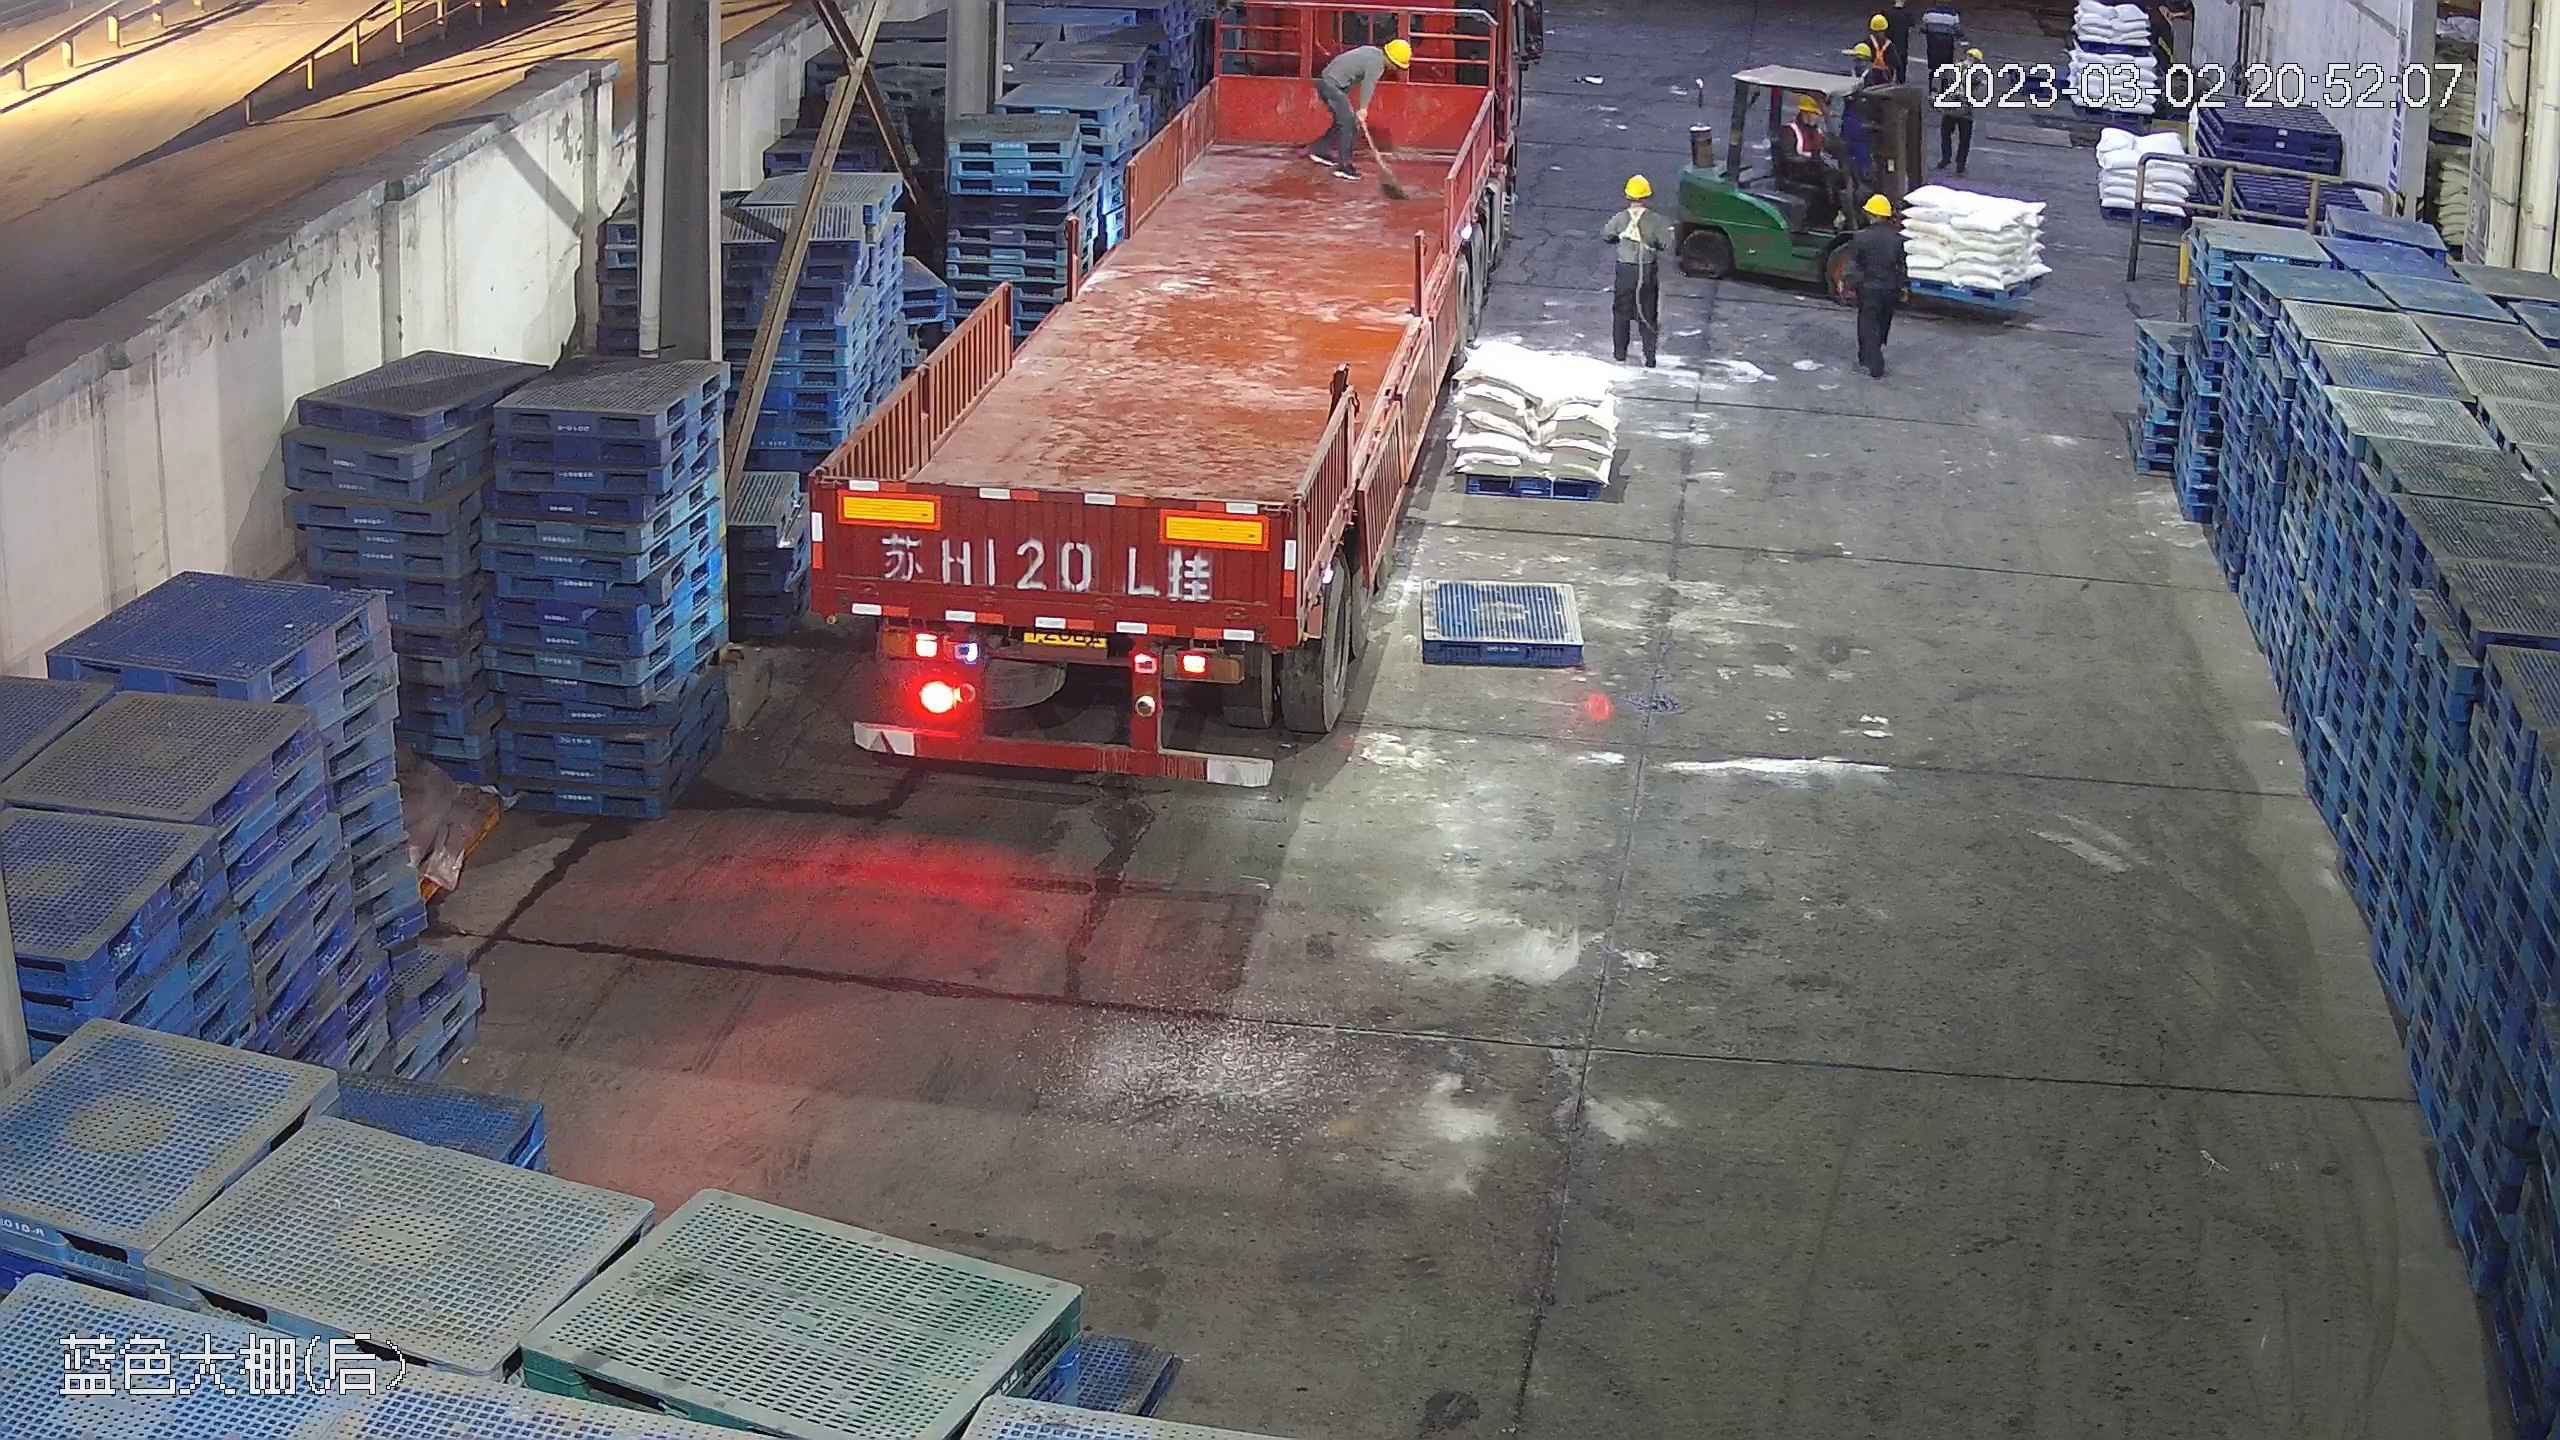belt: (1620, 209, 1660, 244), (1869, 35, 1894, 70)
head: (1607, 173, 1663, 233), (1850, 192, 1903, 251), (1355, 37, 1412, 90), (1782, 92, 1830, 145), (1865, 15, 1897, 54)
helmet: (1383, 37, 1413, 66), (1622, 173, 1654, 198), (1790, 92, 1819, 116), (1864, 192, 1893, 214), (1872, 12, 1888, 33), (1966, 46, 1982, 61), (1855, 42, 1868, 56)
people: (1309, 34, 1412, 174), (1600, 172, 1667, 366), (1842, 192, 1906, 375), (1938, 41, 1985, 180), (1781, 90, 1839, 188)
truck: (799, 4, 1524, 783)
